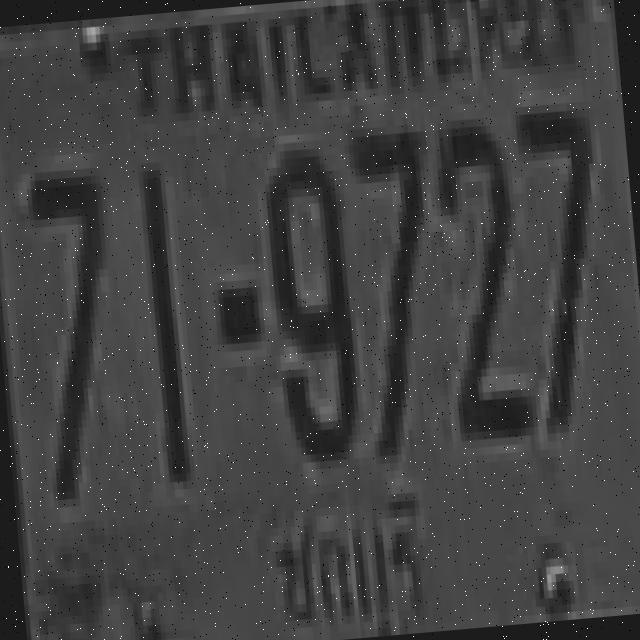1: (137, 158, 186, 479)
2: (428, 112, 529, 438)
7: (512, 101, 613, 426), (349, 119, 446, 452), (24, 160, 121, 492), (349, 124, 439, 370)
9: (257, 138, 362, 456)
Chonburi: (256, 479, 438, 636)
